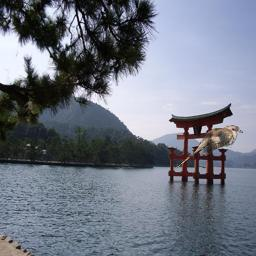Cuckoo: (174, 125, 243, 170)
